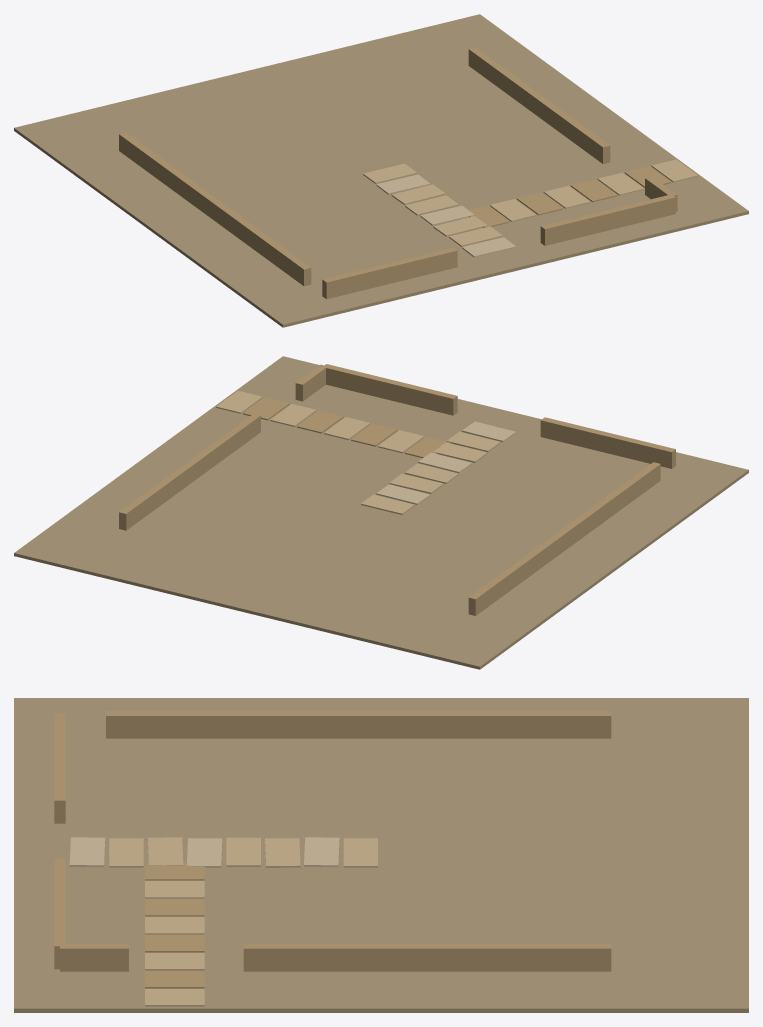
Rendered from courtyard-ground.glb.
The picture shows the model from 3 angles, top to bottom: view 1: azimuth 30°, elevation 25°; view 2: azimuth 150°, elevation 25°; view 3: azimuth 270°, elevation 25°; orthographic projection. The views are drawn at different scales.
Visible parts, largest first — view 1: courtyard-ground-surface; view 2: courtyard-ground-surface; view 3: courtyard-ground-surface.
Boxes of the visible parts, x1,y1,x2,y2 form: courtyard-ground-surface: (14, 14, 748, 327); courtyard-ground-surface: (14, 356, 748, 669); courtyard-ground-surface: (14, 698, 748, 1012).
Bounding box in the file's own units: 32 × 1.33 × 32.
